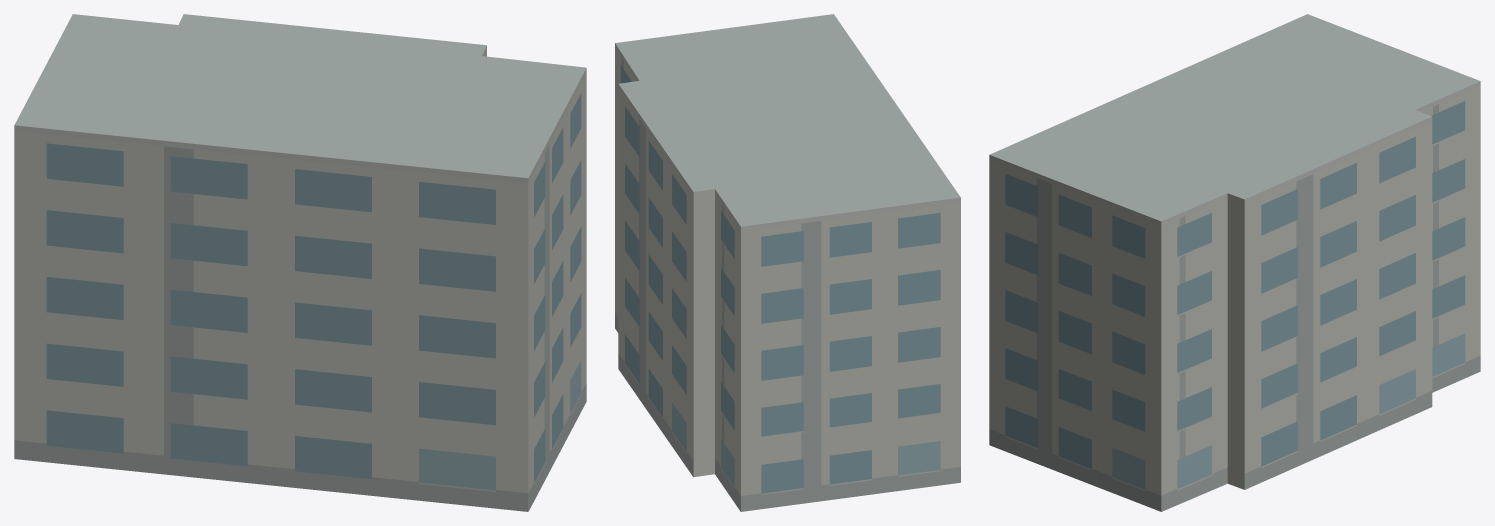
The model's file is survey-upis-32837595.glb.
The picture shows the model from 3 angles, left to right: view 1: azimuth 30°, elevation 25°; view 2: azimuth 150°, elevation 25°; view 3: azimuth 270°, elevation 25°; orthographic projection. The views are drawn at different scales.
Parts seen in each view (by area): view 1: survey-upis-32837595.tmp; view 2: survey-upis-32837595.tmp; view 3: survey-upis-32837595.tmp.
Boxes of the visible parts, x1,y1,x2,y2 form: survey-upis-32837595.tmp: [14, 14, 586, 511]; survey-upis-32837595.tmp: [615, 14, 960, 511]; survey-upis-32837595.tmp: [989, 14, 1480, 511].
Size of the model in its own units: 22.07 by 14.4 by 22.08.
